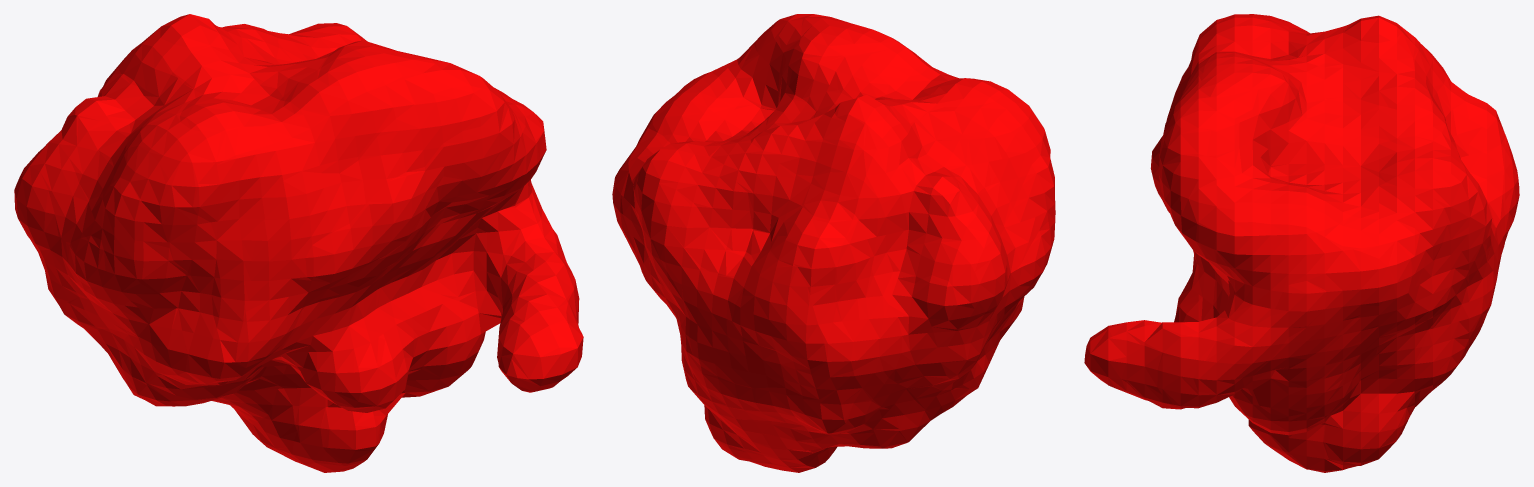
The model's file is aroF_coarse.dae.
3 views of the same model, side by side, from view 1: azimuth 30°, elevation 25°; view 2: azimuth 150°, elevation 25°; view 3: azimuth 270°, elevation 25° (orthographic). The views are drawn at different scales.
Visible parts, largest first — view 1: aroF; view 2: aroF; view 3: aroF.
Boxes of the visible parts, x1,y1,x2,y2 form: aroF: (14,14,583,472); aroF: (612,14,1055,472); aroF: (1084,14,1519,472).
Bounding box in the file's own units: 58.2 × 56.13 × 54.71.
